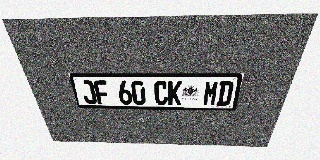0: (131, 81, 146, 105)
6: (117, 81, 133, 105)
C: (154, 81, 168, 105)
D: (216, 81, 235, 106)
F: (93, 80, 110, 104)
J: (79, 80, 98, 104)
K: (168, 81, 182, 105)
M: (202, 81, 220, 106)
